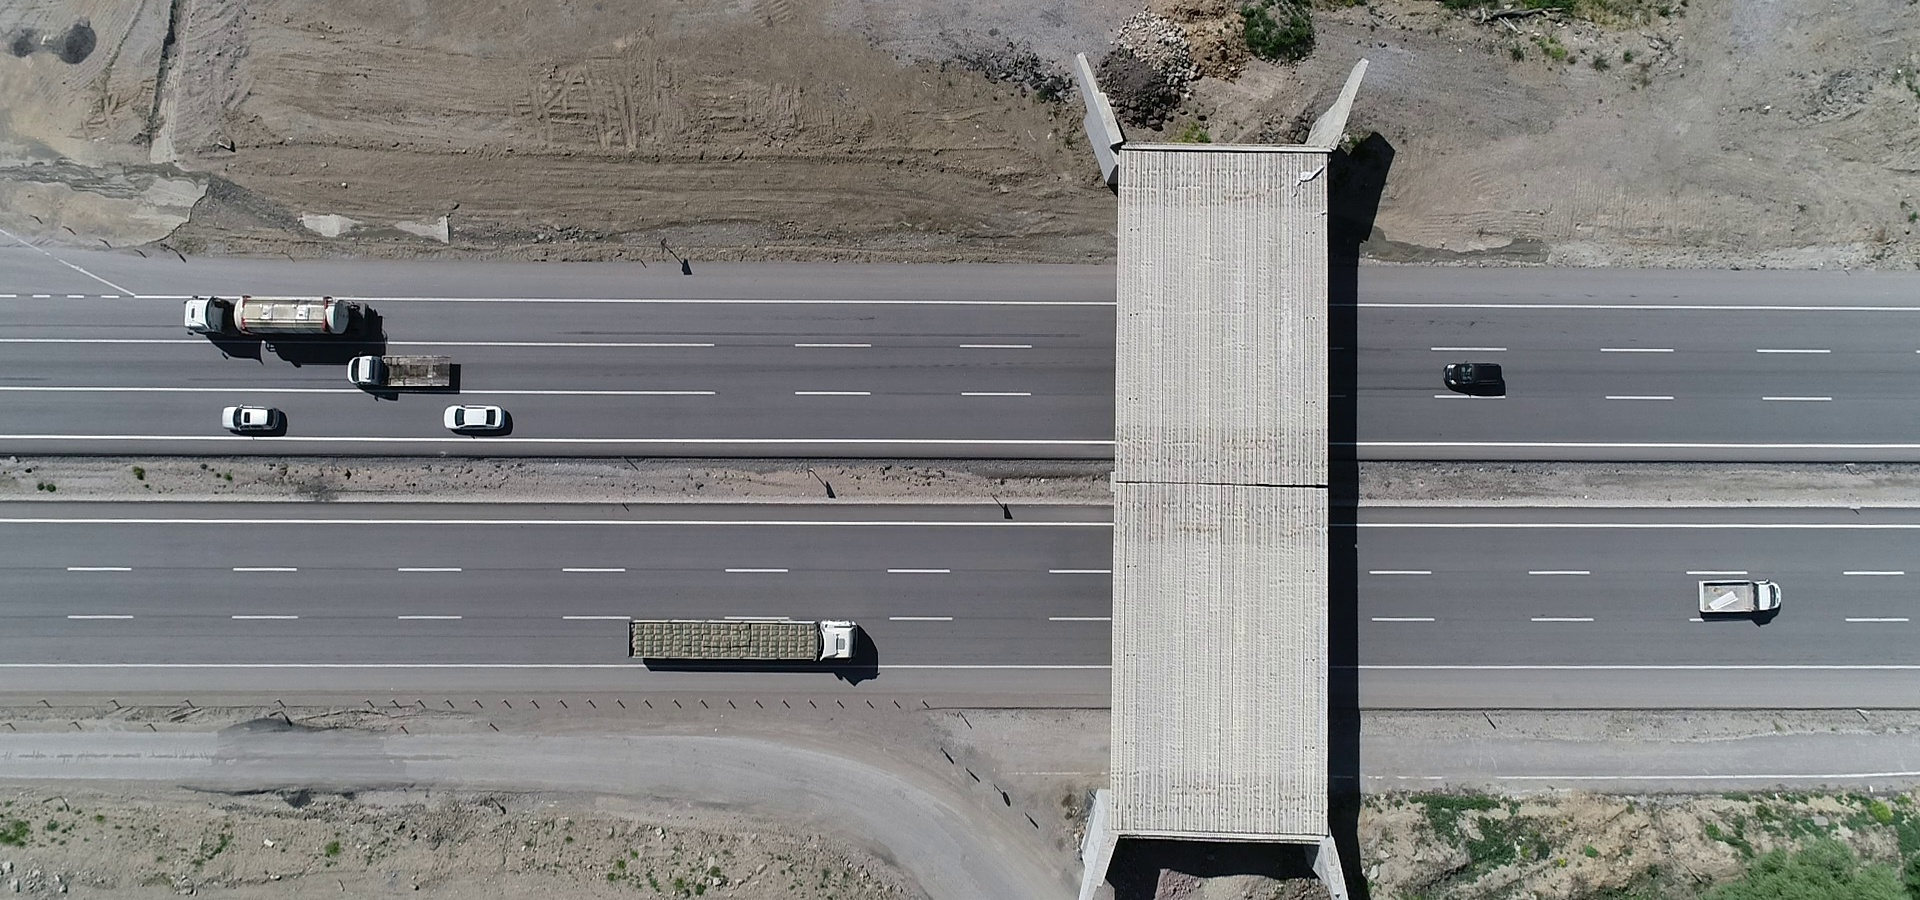araba: (1442, 356, 1520, 396), (444, 396, 509, 442), (219, 405, 305, 433)
kamyon: (624, 617, 880, 672), (176, 291, 387, 345)
kamyonet: (1692, 572, 1796, 620), (344, 353, 460, 394)
